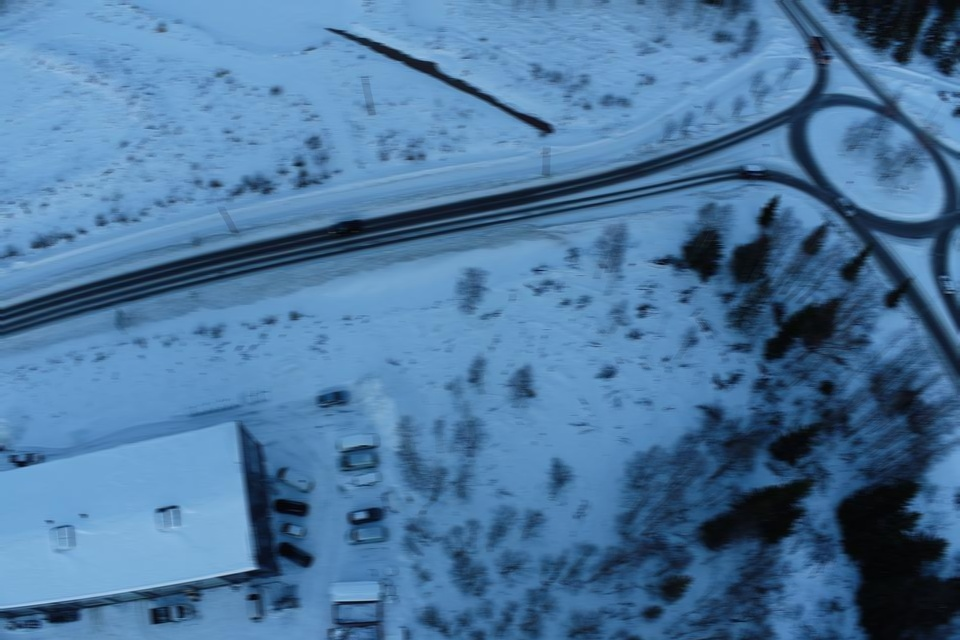roundabout: (767, 67, 960, 271)
